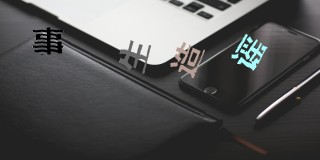事: (32, 26, 63, 55)
生: (118, 40, 151, 74)
谣: (231, 33, 267, 71)
造: (169, 41, 206, 78)
